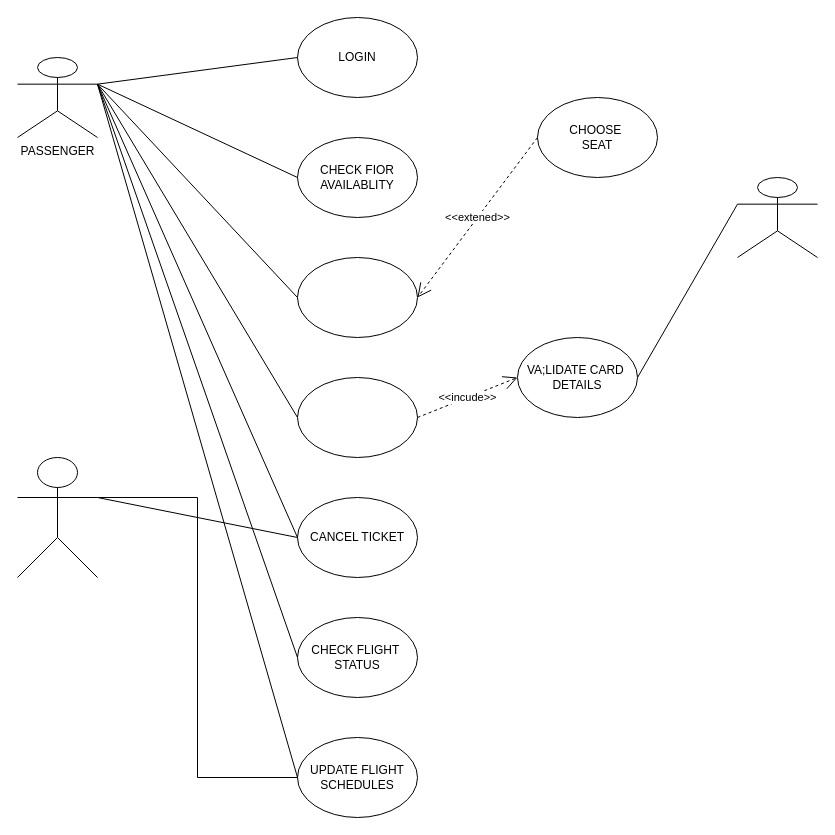
This 835x835 diagram has some shape labels left out. Each missing label, with the centre of its shape:
"ADMIN" goes at (57,517).
"BANK" goes at (777,217).
"BOOK TICKET" goes at (357,297).
"PAYMENT" goes at (357,417).
